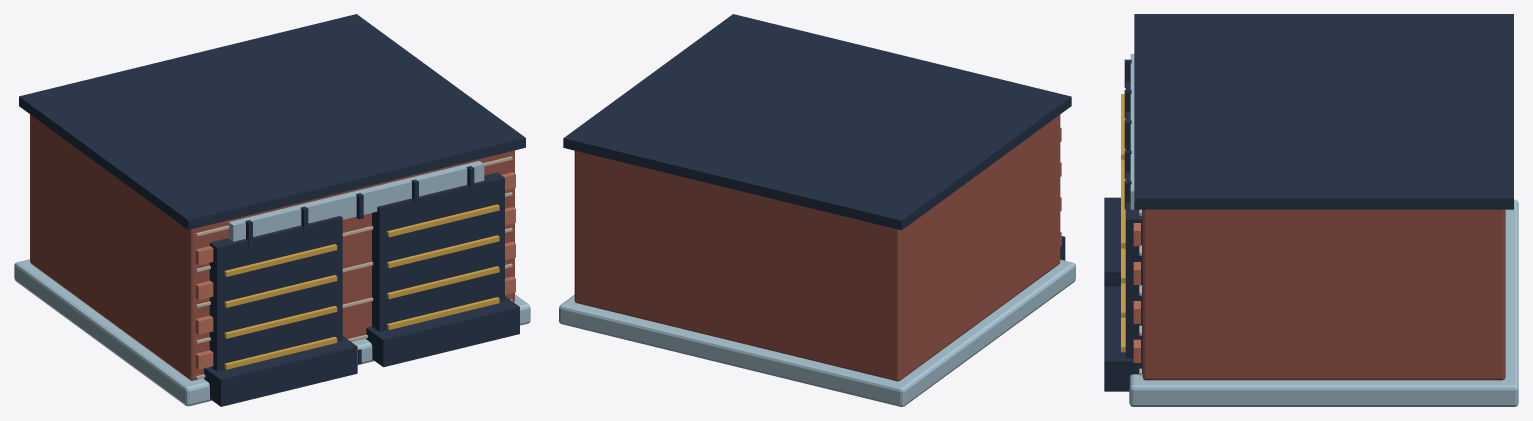
Rendered from base_warehouse_works.glb.
3 renders of one model, left to right at view 1: azimuth 30°, elevation 25°; view 2: azimuth 150°, elevation 25°; view 3: azimuth 270°, elevation 25°, orthographic. The views are drawn at different scales.
Parts seen in each view (by area): view 1: base_warehouse_works ink, base_warehouse_works brick, base_warehouse_works ochre, base_warehouse_works mist, base_warehouse_works glass, base_warehouse_works clay, base_warehouse_works mortar; view 2: base_warehouse_works brick, base_warehouse_works ink, base_warehouse_works mist; view 3: base_warehouse_works ink, base_warehouse_works brick, base_warehouse_works mist, base_warehouse_works ochre, base_warehouse_works glass, base_warehouse_works clay.
Boxes of the visible parts, <box> form: base_warehouse_works ink: <box>19,14,525,406</box>; base_warehouse_works brick: <box>30,114,514,380</box>; base_warehouse_works ochre: <box>224,204,499,369</box>; base_warehouse_works mist: <box>14,259,530,406</box>; base_warehouse_works glass: <box>228,161,484,241</box>; base_warehouse_works clay: <box>195,172,515,369</box>; base_warehouse_works mortar: <box>196,156,512,379</box>; base_warehouse_works brick: <box>574,115,1060,381</box>; base_warehouse_works ink: <box>563,14,1071,260</box>; base_warehouse_works mist: <box>559,259,1075,406</box>; base_warehouse_works ink: <box>1104,14,1513,391</box>; base_warehouse_works brick: <box>1142,209,1505,380</box>; base_warehouse_works mist: <box>1129,199,1518,406</box>; base_warehouse_works ochre: <box>1121,94,1125,352</box>; base_warehouse_works glass: <box>1130,54,1134,209</box>; base_warehouse_works clay: <box>1133,223,1140,362</box>.
Size of the model in its own units: 0.935 by 0.48 by 0.8675.
